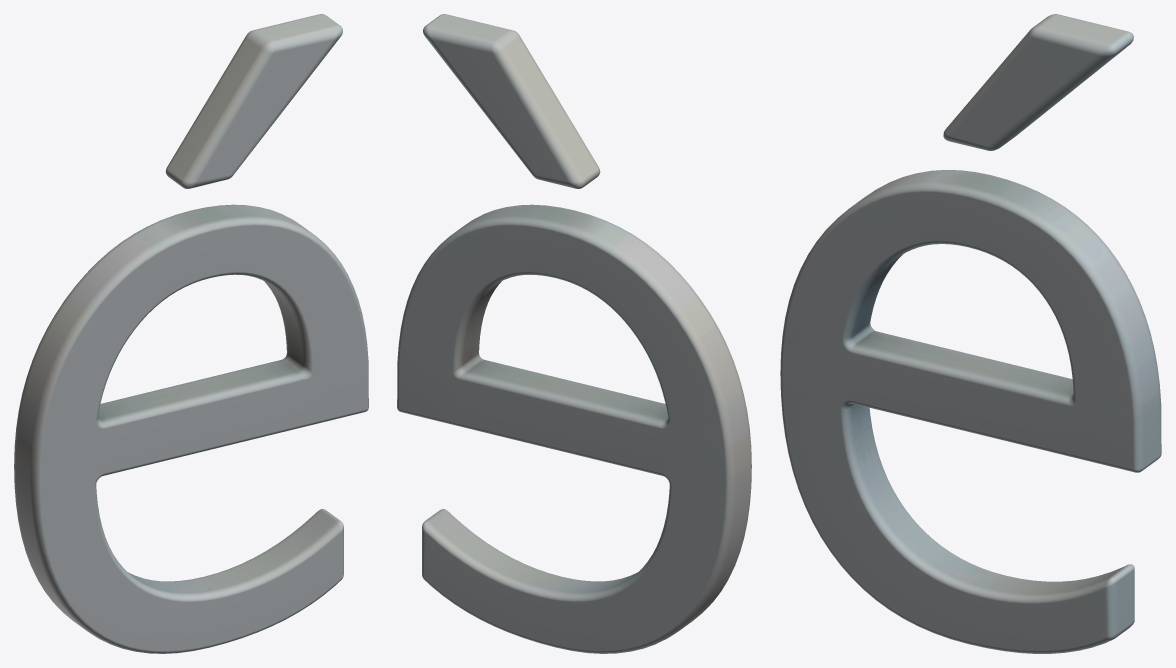
The picture shows the model from 3 angles, left to right: view 1: azimuth 30°, elevation 25°; view 2: azimuth 150°, elevation 25°; view 3: azimuth 330°, elevation 25°; orthographic projection. The views are drawn at different scales.
Parts seen in each view (by area): view 1: node_id37; view 2: node_id37; view 3: node_id37.
Part boxes in pixels (x1=…): node_id37: x1=14, y1=14, x2=368, y2=653; node_id37: x1=397, y1=14, x2=751, y2=653; node_id37: x1=780, y1=14, x2=1161, y2=653.
Size of the model in its own units: 0.1204 by 0.2016 by 0.015.
